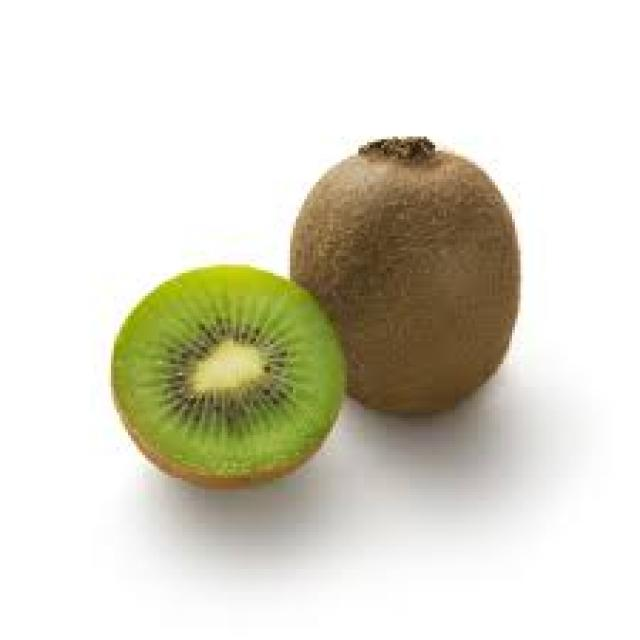kiwi: (295, 140, 521, 415), (114, 265, 346, 482)
